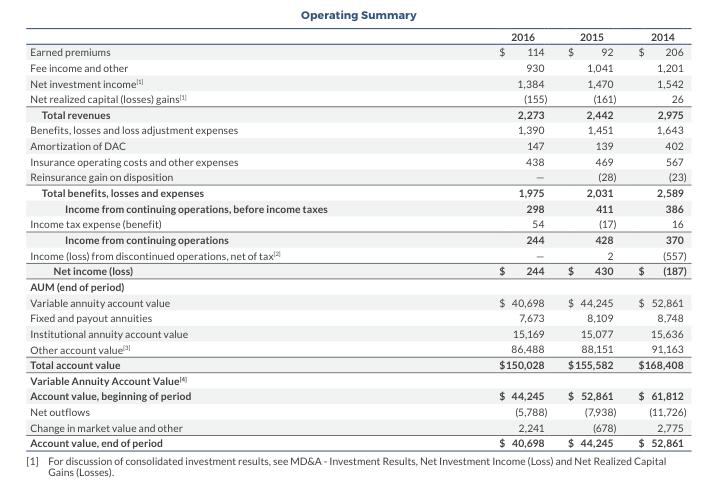table: (29, 29, 685, 448)
table column: (29, 29, 412, 448), (412, 29, 556, 448), (556, 29, 626, 448), (626, 29, 685, 448)
table column header: (29, 29, 685, 43)
table projected row header: (29, 371, 685, 387), (29, 278, 685, 293)
table row: (29, 43, 685, 59), (29, 74, 685, 90), (29, 105, 685, 121), (29, 121, 685, 137), (29, 152, 685, 168), (29, 168, 685, 184), (29, 199, 685, 215), (29, 215, 685, 231), (29, 246, 685, 262), (29, 262, 685, 278), (29, 293, 685, 309), (29, 309, 685, 325), (29, 340, 685, 356), (29, 371, 685, 387), (29, 387, 685, 403), (29, 418, 685, 434), (29, 59, 685, 74), (29, 90, 685, 105), (29, 137, 685, 152), (29, 184, 685, 199), (29, 231, 685, 246), (29, 278, 685, 293), (29, 325, 685, 340), (29, 356, 685, 371), (29, 403, 685, 418), (29, 29, 685, 43), (29, 434, 685, 448)
